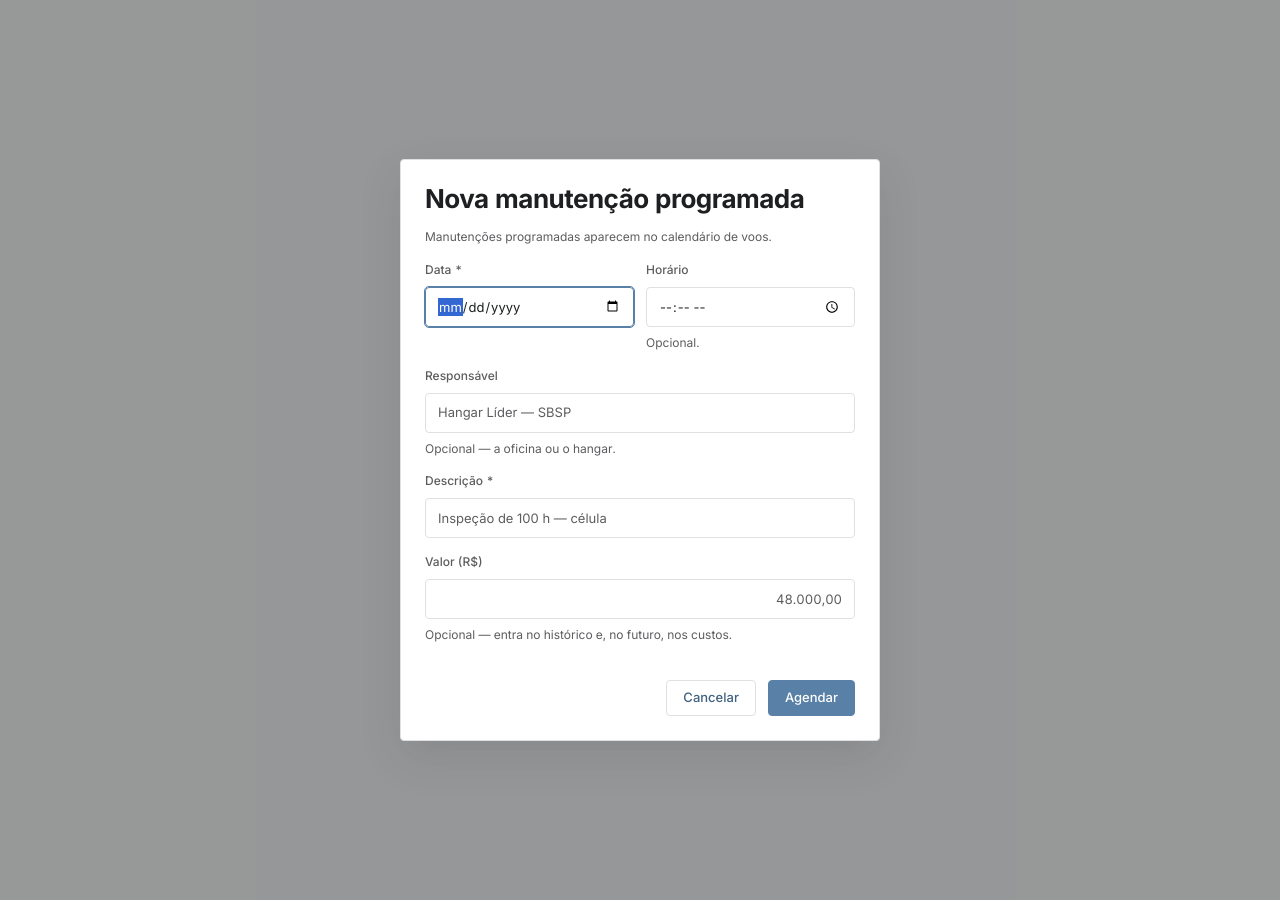
it: PainelDeManutencaoAgendada › agendar vazio diz o que falta no campo e no resumo, sem ir ao servidor
The image size is (1280, 900).
Click the button "Agendar": (811, 698) top-left (768, 680), bottom-right (855, 716)
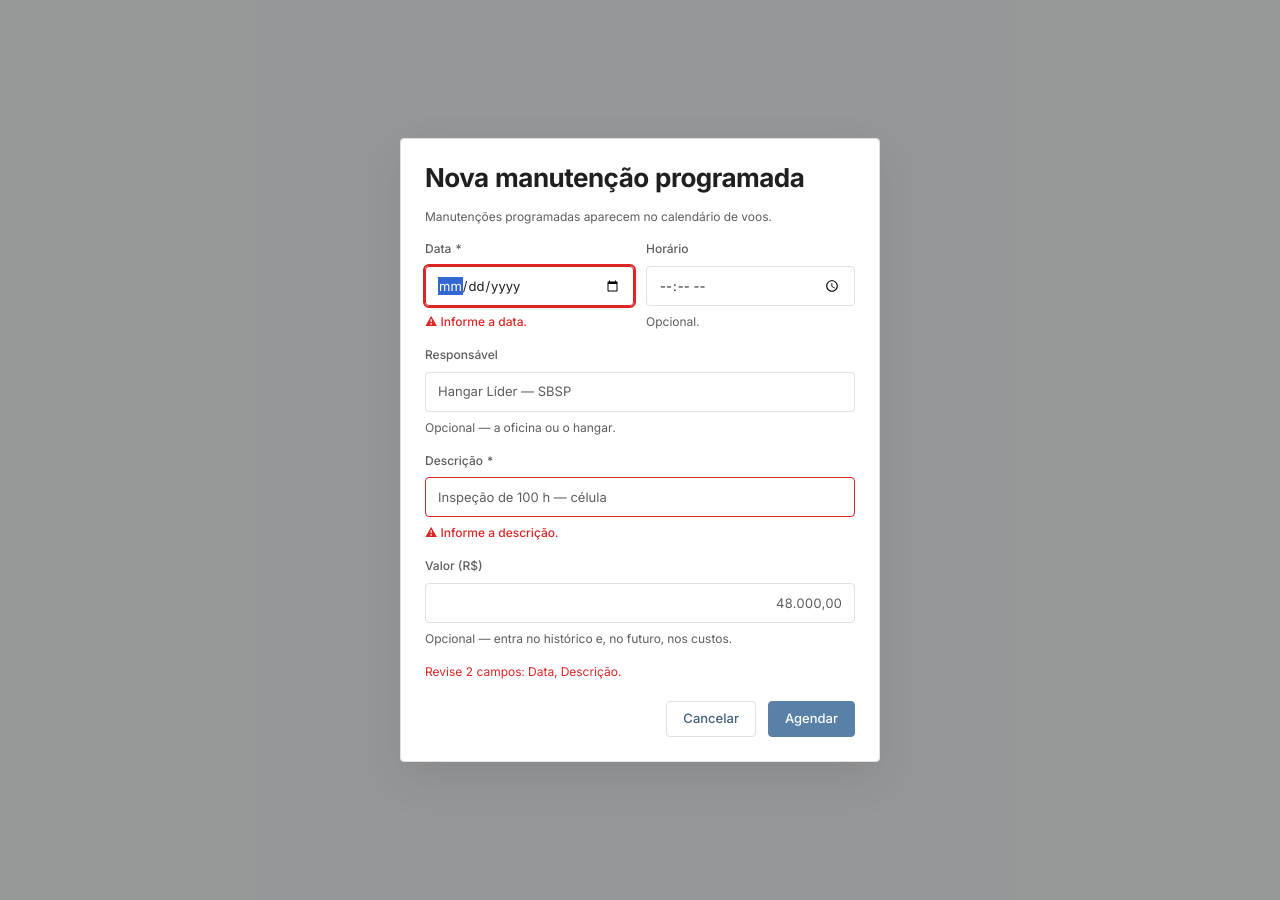
Expected: the message reads "Revise 2 campos: Data, Descrição.", top-left (425, 664), bottom-right (621, 679)
